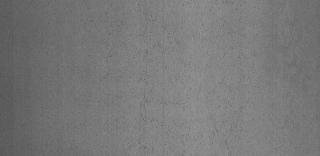silk spot: (87, 2, 263, 140)
